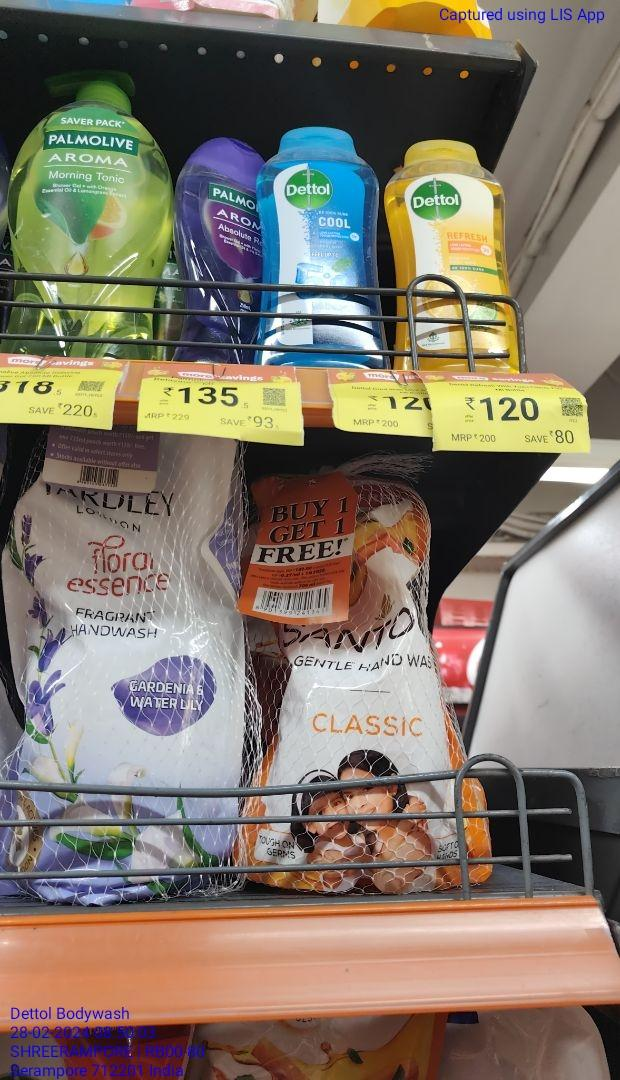Dettol_Bodywash_Cool: (273, 111, 378, 371)
Dettol_Bodywash_Refresh: (391, 137, 516, 375)
Palmolive_Aroma_Relax_250ML: (172, 134, 265, 363)
